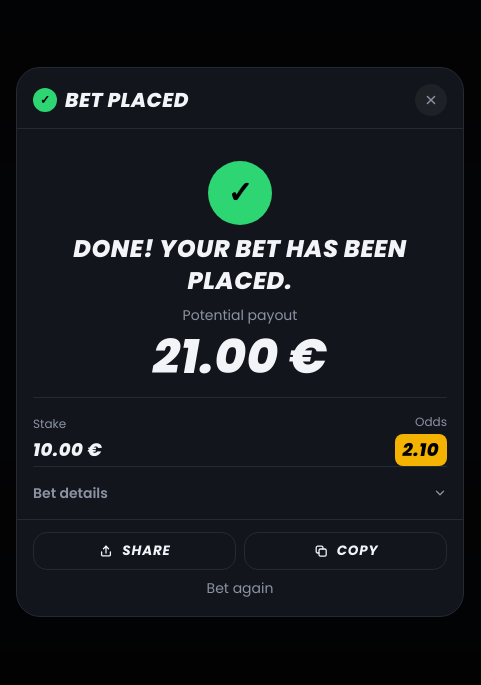
BetPlacedModal › single-bet placement (bet details, share/copy) › shows a collapsed Bet details section that expands to the selection
The width and height of the screenshot is (481, 685).
Click the button "Bet details".
click(70, 493)  # box [33, 483, 447, 503]
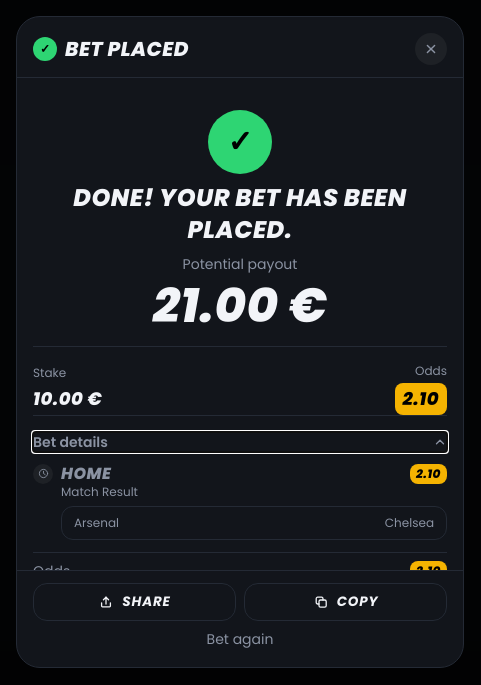
Now the button "Bet details" is expanded, box [33, 432, 447, 452]
Now the text "Arsenal" is shown, box [74, 515, 119, 531]
Now the text "Chelsea" is shown, box [385, 515, 434, 531]
